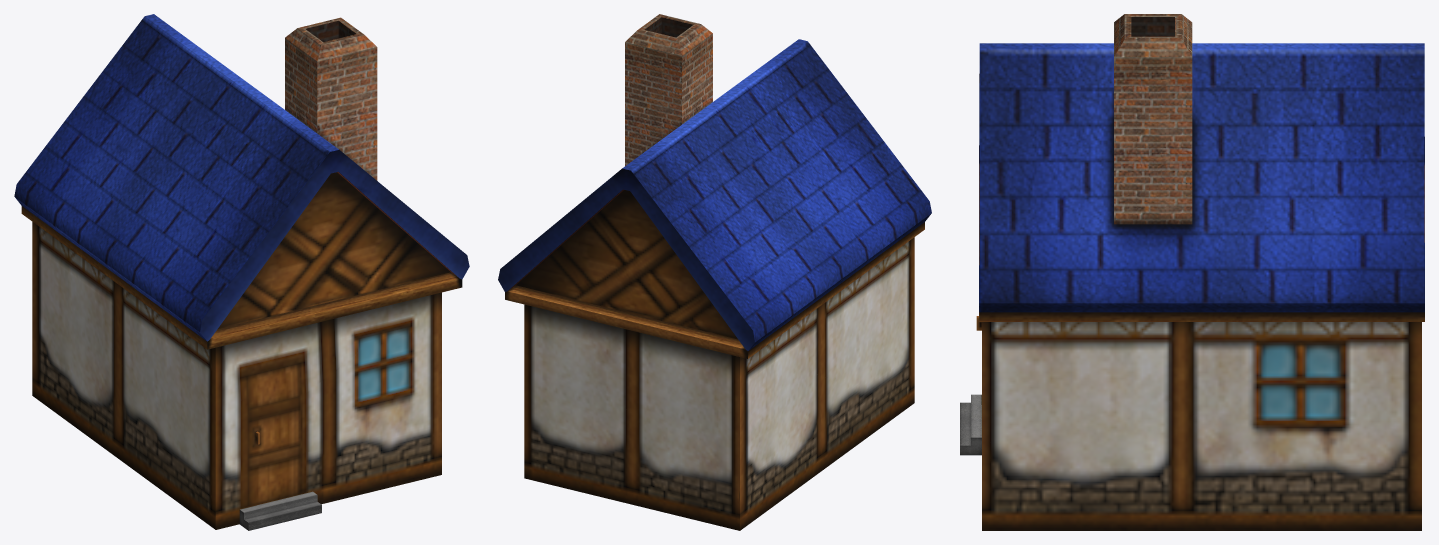
The model's file is house_blue.fbx.
3 renders of one model, left to right at view 1: azimuth 30°, elevation 25°; view 2: azimuth 150°, elevation 25°; view 3: azimuth 270°, elevation 25°, orthographic. The views are drawn at different scales.
Visible parts, largest first — view 1: blue1; view 2: blue1; view 3: blue1.
Part boxes in pixels (x1,y1,x2,y2): blue1: [14, 14, 469, 530]; blue1: [498, 14, 931, 530]; blue1: [960, 14, 1424, 530].
Size of the model in its own units: 0.3582 by 0.5088 by 0.4457.
